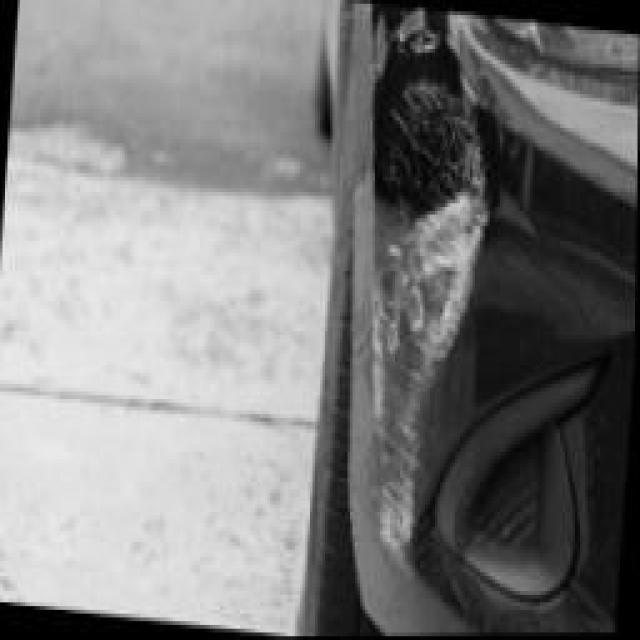Bumper: (320, 0, 640, 637)
